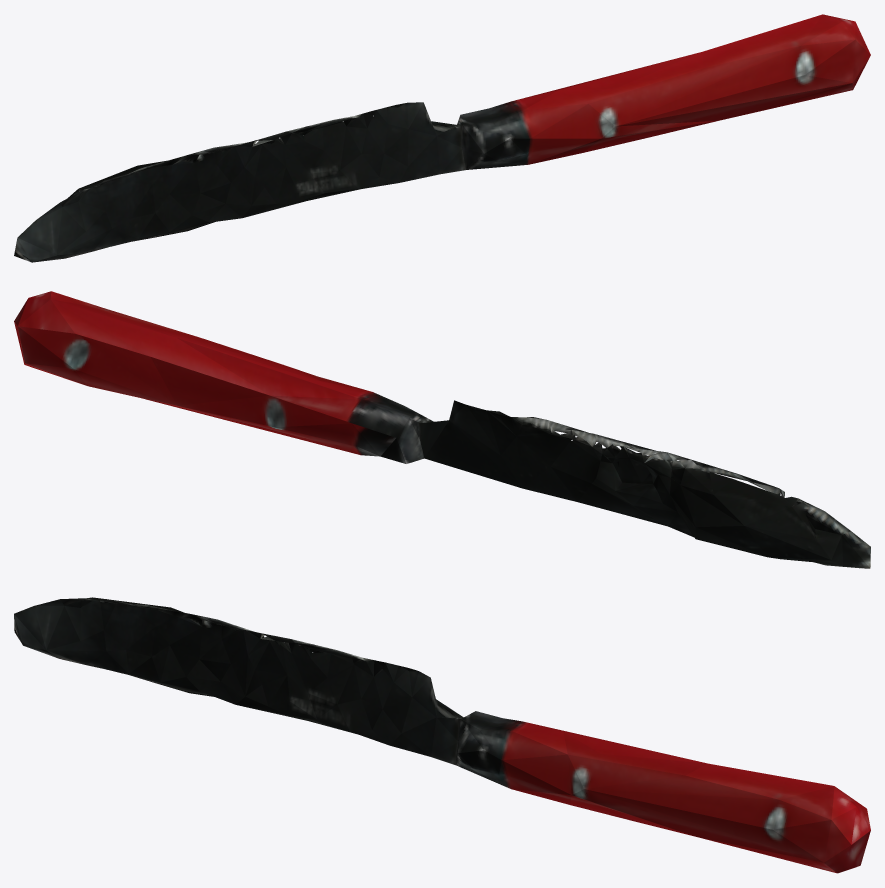
Rendered from 032_knife.obj.
3 renders of one model, top to bottom at view 1: azimuth 30°, elevation 25°; view 2: azimuth 150°, elevation 25°; view 3: azimuth 330°, elevation 25°, orthographic. The views are drawn at different scales.
Visible parts, largest first — view 1: 032_knife; view 2: 032_knife; view 3: 032_knife.
Part boxes in pixels (box(x1,y1,x2,y2)): 032_knife: box(14, 14, 870, 262); 032_knife: box(14, 291, 870, 568); 032_knife: box(14, 597, 870, 873).
Size of the model in its own units: 0.2144 by 0.0203 by 0.0223.
1 material, 1 textured.
